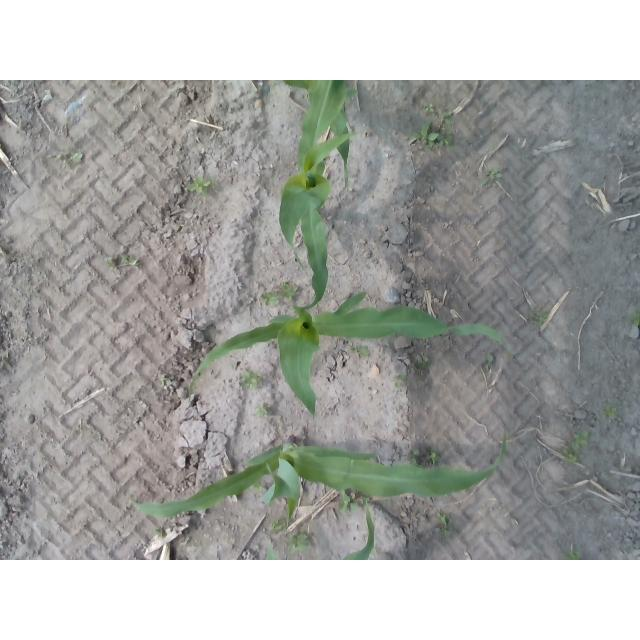Maize: (187, 291, 512, 425), (131, 433, 509, 520), (278, 80, 348, 310), (281, 81, 360, 188), (265, 504, 375, 561)
Weeds: (411, 120, 454, 149), (188, 174, 217, 194), (53, 149, 83, 167), (287, 531, 310, 554), (560, 445, 584, 464), (241, 370, 263, 390), (437, 512, 454, 536), (340, 488, 357, 512), (410, 355, 431, 374), (421, 447, 441, 466), (529, 307, 548, 326), (571, 431, 589, 450), (281, 282, 299, 301), (260, 291, 280, 306), (626, 306, 640, 326), (600, 404, 617, 420), (482, 353, 494, 375), (120, 254, 140, 267), (255, 403, 273, 417), (349, 345, 368, 358), (438, 111, 454, 126), (561, 549, 580, 560), (486, 168, 503, 180), (271, 518, 287, 530), (409, 449, 420, 466), (394, 375, 407, 388), (252, 479, 265, 491), (422, 102, 435, 114), (106, 256, 116, 268), (155, 528, 166, 538), (159, 376, 170, 386), (479, 180, 490, 188), (361, 494, 369, 504), (371, 548, 377, 557)
